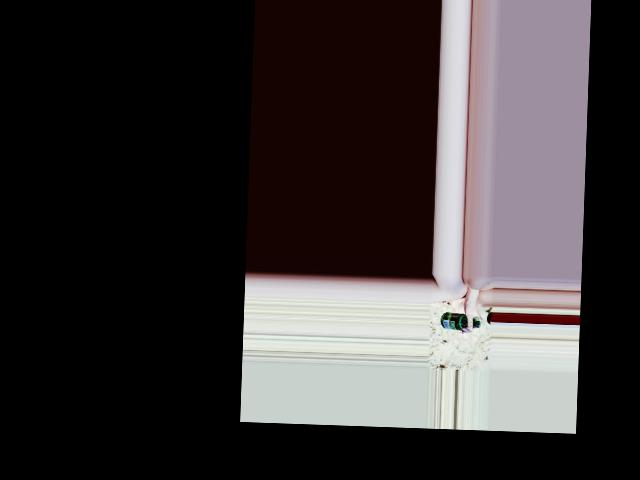beer: (440, 311, 481, 330)
